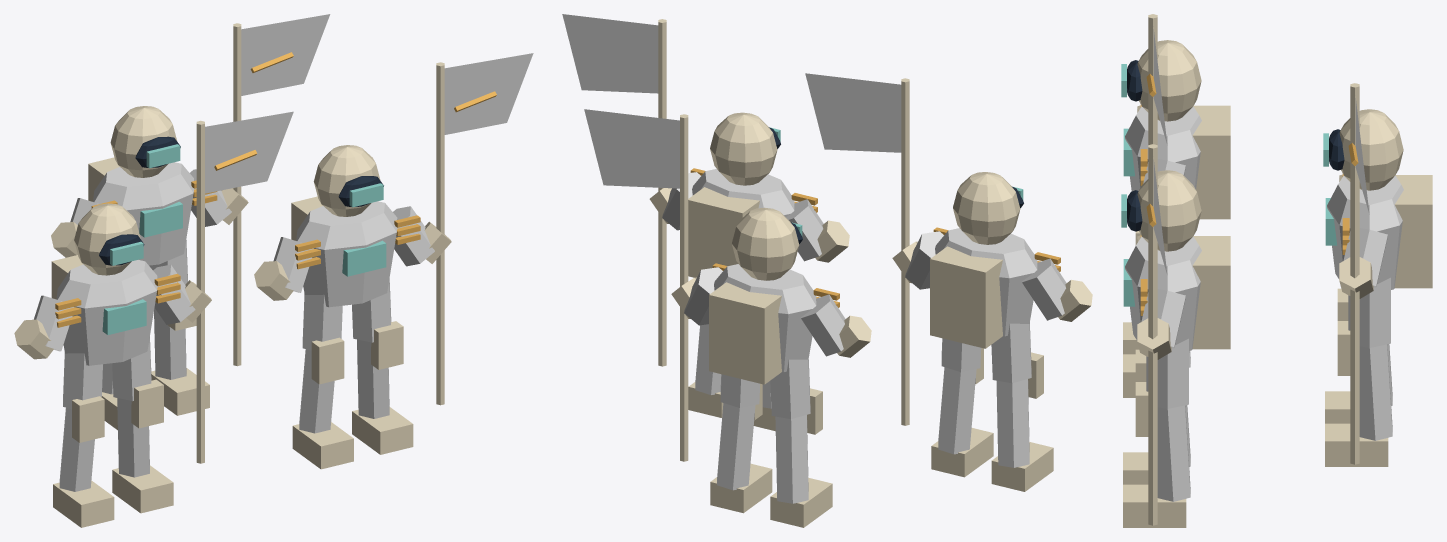
File: space_knight_l3_active.glb
3 renders of one model, left to right at view 1: azimuth 30°, elevation 25°; view 2: azimuth 150°, elevation 25°; view 3: azimuth 270°, elevation 25°, orthographic. The views are drawn at different scales.
Parts seen in each view (by area): view 1: WoodBody, FixedDetails, BrassTrim; view 2: WoodBody, FixedDetails, BrassTrim; view 3: FixedDetails, WoodBody, BrassTrim.
Part boxes in pixels (bbox=[...]): WoodBody: bbox=[34, 14, 533, 491]; FixedDetails: bbox=[14, 106, 451, 527]; BrassTrim: bbox=[55, 23, 496, 463]; WoodBody: bbox=[562, 14, 1066, 503]; FixedDetails: bbox=[649, 112, 1092, 527]; BrassTrim: bbox=[658, 19, 1060, 461]; FixedDetails: bbox=[1121, 40, 1432, 527]; WoodBody: bbox=[1125, 26, 1403, 501]; BrassTrim: bbox=[1140, 14, 1359, 525].
Bounding box in the file's own units: 0.6933 × 0.463 × 0.3238.
